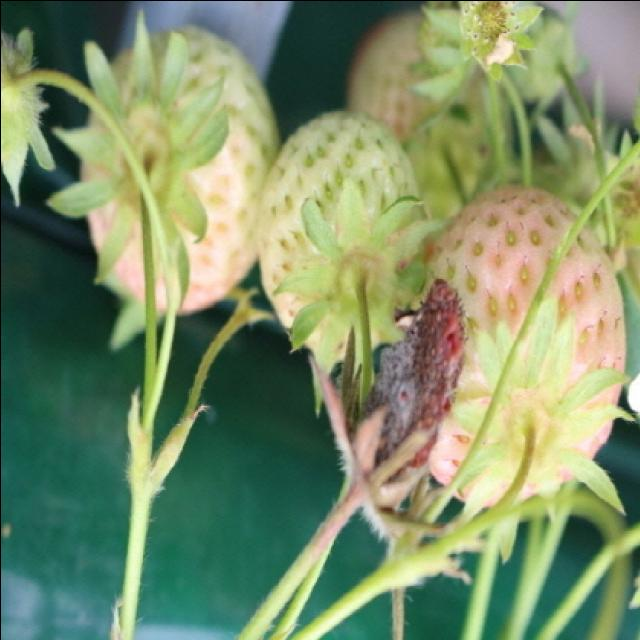Gray Mold: (307, 275, 467, 541)
